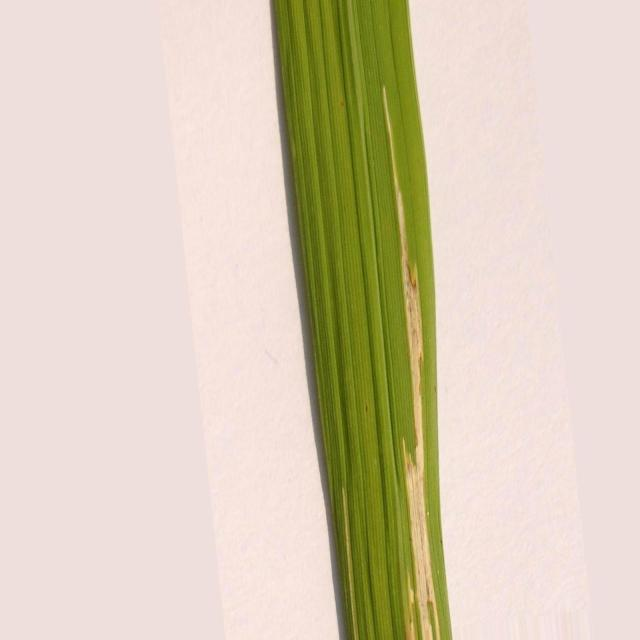Bacterial_Leaf_Blight: (382, 86, 440, 639)
